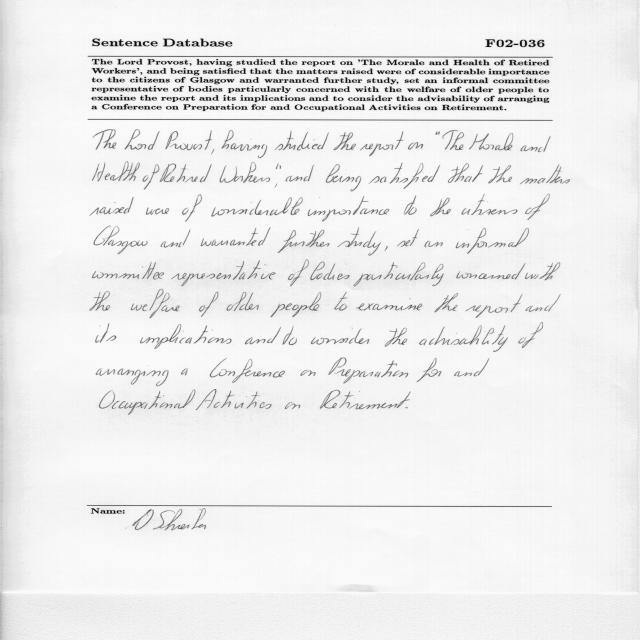word: (171, 260, 276, 286), (100, 389, 196, 415), (419, 325, 508, 352), (140, 324, 232, 349), (354, 262, 444, 286), (308, 196, 389, 222), (329, 358, 409, 384), (369, 162, 440, 189), (456, 228, 529, 254), (210, 358, 285, 383), (211, 197, 303, 217), (320, 390, 410, 409), (96, 365, 169, 386), (196, 390, 272, 410), (94, 226, 147, 254), (131, 290, 179, 319), (466, 294, 523, 318), (201, 227, 271, 246), (93, 262, 165, 280), (221, 130, 267, 158), (271, 292, 321, 317), (338, 227, 381, 256), (220, 162, 279, 183), (461, 194, 518, 215), (278, 230, 329, 253), (457, 263, 526, 280), (275, 131, 329, 151), (360, 131, 403, 156), (520, 165, 570, 185), (160, 164, 212, 183), (311, 328, 369, 345), (92, 162, 140, 182), (326, 164, 361, 191), (165, 130, 212, 150), (90, 197, 134, 216), (356, 299, 422, 311), (469, 133, 513, 150), (311, 262, 350, 281), (125, 130, 160, 150), (448, 163, 483, 183), (525, 194, 550, 220), (518, 322, 543, 348), (454, 359, 490, 377), (525, 263, 560, 281), (526, 294, 561, 312), (226, 292, 259, 311), (245, 328, 281, 345), (417, 358, 442, 382), (182, 194, 202, 222), (288, 260, 309, 286), (161, 230, 191, 248), (520, 136, 551, 152), (286, 165, 314, 182), (199, 292, 218, 317), (94, 130, 117, 150), (435, 293, 459, 312), (143, 164, 160, 190), (442, 130, 464, 150), (488, 165, 512, 183), (385, 328, 407, 347), (90, 291, 110, 311), (96, 323, 116, 343), (334, 132, 356, 150), (397, 229, 419, 247), (430, 198, 451, 216), (282, 326, 297, 345), (404, 195, 417, 215), (335, 292, 348, 311), (146, 208, 169, 215), (408, 142, 423, 150), (424, 241, 443, 247), (285, 402, 300, 409), (301, 370, 316, 376), (181, 368, 188, 376), (435, 131, 440, 135), (384, 246, 388, 251), (211, 149, 214, 154), (279, 165, 281, 169), (275, 184, 277, 188), (405, 407, 408, 409)
